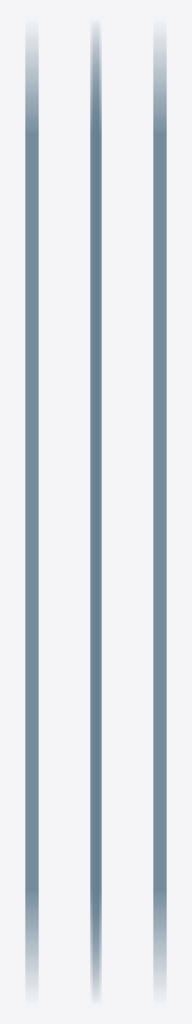
The model's file is shi-daze-rain-vfx-v1-streak-lod0.glb.
3 renders of one model, left to right at view 1: azimuth 90°, elevation 25°; view 2: azimuth 150°, elevation 25°; view 3: azimuth 270°, elevation 25°, orthographic.
Visible parts, largest first — view 1: SM_SHI_RainStreak_01_LOD0; view 2: SM_SHI_RainStreak_01_LOD0; view 3: SM_SHI_RainStreak_01_LOD0.
Boxes of the visible parts, x1,y1,x2,y2 form: SM_SHI_RainStreak_01_LOD0: [25, 37, 38, 986]; SM_SHI_RainStreak_01_LOD0: [90, 26, 101, 997]; SM_SHI_RainStreak_01_LOD0: [153, 37, 166, 986].
Size of the model in its own units: 0.012 by 1 by 0.012.
